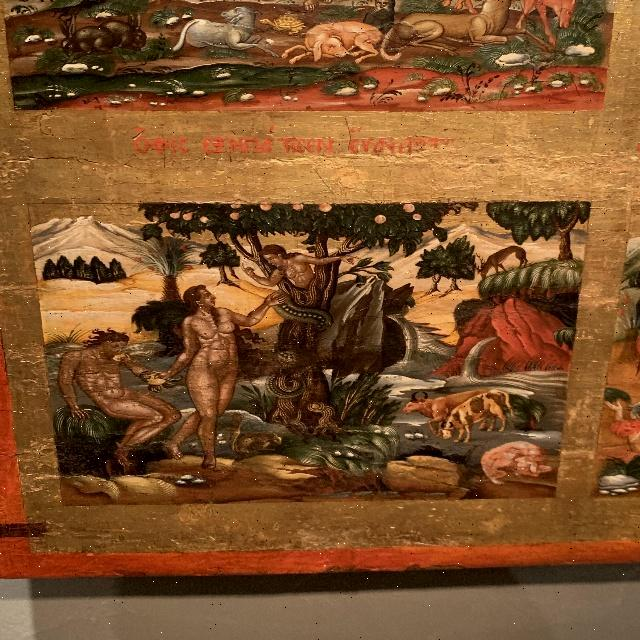adam: (62, 328, 163, 467)
eve: (157, 280, 282, 455)
snake: (255, 240, 341, 394)
